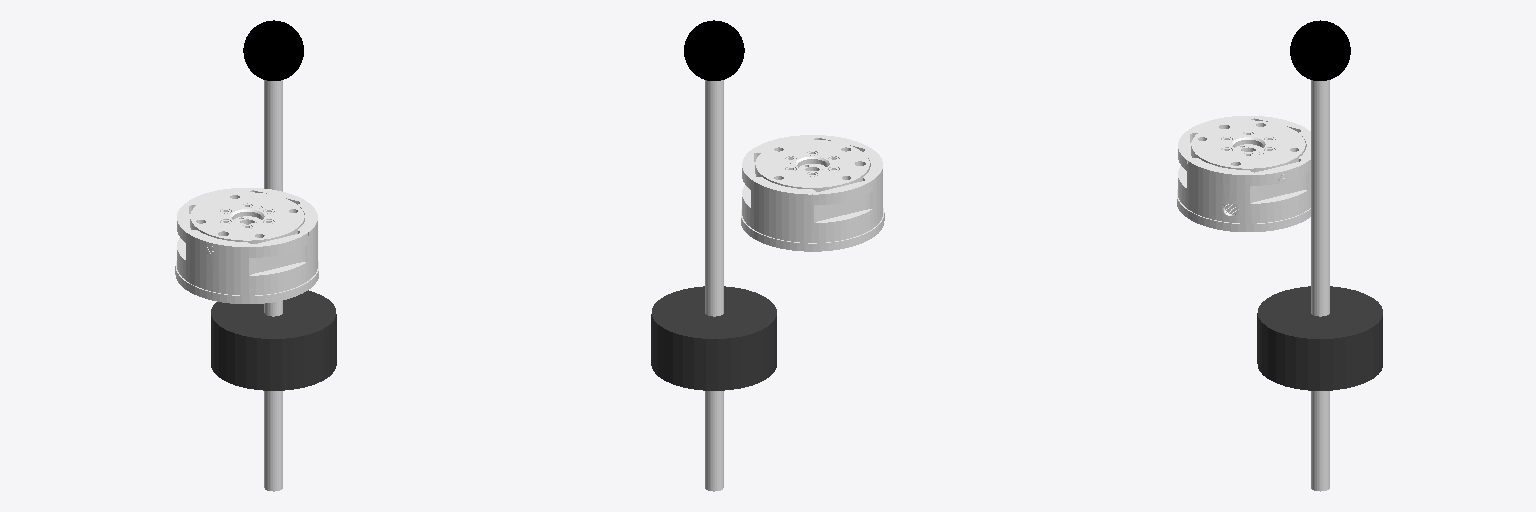
robot.urdf — kuka:
<?xml version="1.0" ?>
<robot name="kuka">
    <material name="DarkGrey">
        <color rgba="0.3 0.3 0.3 0.5"/>
    </material>
    <material name="Black">
        <color rgba="0 0 0 0.5"/>
    </material>
    <material name="Orange">
        <color rgba="1.0 0.487 0 0.5"/>
    </material>
    <material name="Silver">
        <color rgba="1.0 1.0 1.0 0.5"/>
    </material>
    <material name="Grey">
        <color rgba="0.7 0.7 0.7 0.5"/>
    </material>
    <material name="Blue">
        <color rgba="0.0 0.0 0.8 0.5"/>
    </material>
    <link name="lwr_world">
      <inertial>
        <mass value="0"/>
        <inertia ixx="0.0" ixy="0" ixz="0" iyy="0.0" iyz="0" izz="0.0"/>
      </inertial>
    </link>
    <!-- joint between {parent} and link_0 -->
    <joint name="lwr_world_joint" type="fixed">
      <origin rpy="0 0 0" xyz="0 0 0"/>
      <parent link="lwr_world"/>
      <child link="lwr_arm_0_link"/>
    </joint>
    <link name="lwr_arm_0_link">
        <inertial>
            <mass value="2.0"/>
            <origin xyz="0 0 0.055"/>
            <inertia ixx="0.00381666666667" ixy="0" ixz="0" iyy="0.0036" iyz="0" izz="0.00381666666667"/>
        </inertial>
        <visual>
            <origin rpy="0 0 3.14159265359" xyz="0 0 0"/>
            <geometry>
                <mesh filename="meshes/visual/base.STL"/>
            </geometry>
            <material name="Grey"/>
        </visual>

    </link>
    <joint name="lwr_arm_0_joint" type="revolute">
        <origin rpy="0 0 3.14159265359" xyz="0 0 0.11"/>
        <axis xyz="0 0 1"/>
        <limit effort="204" lower="-2.96705972839" upper="2.96705972839" velocity="1.91986217719"/>
        <safety_controller k_position="30" k_velocity="30" soft_lower_limit="-2.93215314335" soft_upper_limit="2.93215314335"/>
        <dynamics damping="1.0"/>
        <parent link="lwr_arm_0_link"/>
        <child link="lwr_arm_1_link"/>
    </joint>
    <link name="lwr_arm_1_link">
        <inertial>
            <mass value="2.0"/>
            <origin rpy="0 0 0" xyz="0 -0.06 0.130"/>
            <inertia ixx="0.0136666666667" ixy="0" ixz="0" iyy="0.003" iyz="0" izz="0.0118666666667"/>
        </inertial>
        <visual>
            <origin rpy="0 0 0" xyz="0 0 -0.008"/>
            <geometry>
                <mesh filename="meshes/visual/link_1.STL"/>
            </geometry>
            <material name="Blue"/>
        </visual>

    </link>
    <transmission name="lwr_arm_0_trans" type="SimpleTransmission">
        <actuator name="lwr_arm_0_motor"/>
        <joint name="lwr_arm_0_joint"/>
        <mechanicalReduction>1.0</mechanicalReduction>
    </transmission>
    <joint name="lwr_arm_1_joint" type="revolute">
        <origin rpy="0 0 0" xyz="0 0 0.2"/>
        <axis xyz="0 1 0"/>
        <limit effort="306" lower="-2.09439510239" upper="2.09439510239" velocity="1.91986217719"/>
        <safety_controller k_position="30" k_velocity="30" soft_lower_limit="-2.05948851735" soft_upper_limit="2.05948851735"/>
        <dynamics damping="1.0" friction="10"/>
        <parent link="lwr_arm_1_link"/>
        <child link="lwr_arm_2_link"/>
    </joint>
    <link name="lwr_arm_2_link">
        <inertial>
            <mass value="2.0"/>
            <origin rpy="0 0 0" xyz="0 0.06 0.07"/>
            <inertia ixx="0.0136666666667" ixy="0" ixz="0" iyy="0.003" iyz="0" izz="0.0118666666667"/>
        </inertial>
        <visual>
            <origin rpy="0 0 0" xyz="0 0 0.0"/>
            <geometry>
                <mesh filename="meshes/visual/link_2.STL"/>
            </geometry>
            <material name="Blue"/>
        </visual>

    </link>
    <transmission name="lwr_arm_1_trans" type="SimpleTransmission">
        <actuator name="lwr_arm_1_motor"/>
        <joint name="lwr_arm_1_joint"/>
        <mechanicalReduction>1.0</mechanicalReduction>
    </transmission>
    <joint name="lwr_arm_2_joint" type="revolute">
        <origin rpy="0 0 0" xyz="0 0 0.20"/>
        <axis xyz="0 0 1"/>
        <limit effort="204" lower="-2.96705972839" upper="2.96705972839" velocity="2.26892802759"/>
        <safety_controller k_position="30" k_velocity="30" soft_lower_limit="-2.93215314335" soft_upper_limit="2.93215314335"/>
        <dynamics damping="1.0"/>
        <parent link="lwr_arm_2_link"/>
        <child link="lwr_arm_3_link"/>
    </joint>
    <link name="lwr_arm_3_link">
        <inertial>
            <mass value="2.0"/>
            <origin rpy="0 0 0" xyz="0 0.06 0.130"/>
            <inertia ixx="0.0136666666667" ixy="0" ixz="0" iyy="0.003" iyz="0" izz="0.0118666666667"/>
        </inertial>
        <visual>
            <origin rpy="0 0 0" xyz="0 0 -0.008"/>
            <geometry>
                <mesh filename="meshes/visual/link_3.STL"/>
            </geometry>
            <material name="Blue"/>
        </visual>

    </link>
    <transmission name="lwr_arm_2_trans" type="SimpleTransmission">
        <actuator name="lwr_arm_2_motor"/>
        <joint name="lwr_arm_2_joint"/>
        <mechanicalReduction>1.0</mechanicalReduction>
    </transmission>
    <joint name="lwr_arm_3_joint" type="revolute">
        <origin rpy="0 0 0" xyz="0 0 0.20"/>
        <axis xyz="0 -1 0"/>
        <limit effort="306" lower="-2.09439510239" upper="2.09439510239" velocity="2.26892802759"/>
        <safety_controller k_position="30" k_velocity="30" soft_lower_limit="-2.05948851735" soft_upper_limit="2.05948851735"/>
        <dynamics damping="1.0"/>
        <parent link="lwr_arm_3_link"/>
        <child link="lwr_arm_4_link"/>
    </joint>
    <link name="lwr_arm_4_link">
        <inertial>
            <mass value="2.0"/>
            <origin rpy="0 0 0" xyz="0 -0.06 0.07"/>
            <inertia ixx="0.0136666666667" ixy="0" ixz="0" iyy="0.003" iyz="0" izz="0.0118666666667"/>
        </inertial>
        <visual>
            <origin rpy="0 0 0" xyz="0 0 0.0"/>
            <geometry>
            <mesh filename="meshes/visual/link_4.STL"/>
                </geometry>
            <material name="Blue"/>
        </visual>

    </link>
    <transmission name="lwr_arm_3_trans" type="SimpleTransmission">
        <actuator name="lwr_arm_3_motor"/>
        <joint name="lwr_arm_3_joint"/>
        <mechanicalReduction>1.0</mechanicalReduction>
    </transmission>
    <joint name="lwr_arm_4_joint" type="revolute">
        <origin rpy="0 0 0" xyz="0 0 0.20"/>
        <axis xyz="0 0 1"/>
        <limit effort="204" lower="-2.96705972839" upper="2.96705972839" velocity="2.26892802759"/>
        <safety_controller k_position="30" k_velocity="30" soft_lower_limit="-2.93215314335" soft_upper_limit="2.93215314335"/>
        <dynamics damping="1.0"/>
        <parent link="lwr_arm_4_link"/>
        <child link="lwr_arm_5_link"/>
    </joint>
    <link name="lwr_arm_5_link">
        <inertial>
            <mass value="2.0"/>
            <origin rpy="0 0 0" xyz="0 0 0.124"/>
            <inertia ixx="0.0126506666667" ixy="0" ixz="0" iyy="0.003" iyz="0" izz="0.0108506666667"/>
        </inertial>
        <visual>
            <origin rpy="0 0 0" xyz="0 0 -0.008"/>
            <geometry name="lwr_arm_5_geom">
                <mesh filename="meshes/visual/link_5.STL"/>
            </geometry>
            <material name="Blue"/>
        </visual>

    </link>
    <transmission name="lwr_arm_4_trans" type="SimpleTransmission">
        <actuator name="lwr_arm_4_motor"/>
        <joint name="lwr_arm_4_joint"/>
        <mechanicalReduction>1.0</mechanicalReduction>
    </transmission>
    <joint name="lwr_arm_5_joint" type="revolute">
        <origin rpy="0 0 0" xyz="0 0 0.19"/>
        <axis xyz="0 1 0"/>
        <limit effort="306" lower="-2.09439510239" upper="2.09439510239" velocity="3.14159265359"/>
        <safety_controller k_position="30" k_velocity="30" soft_lower_limit="-2.05948851735" soft_upper_limit="2.05948851735"/>
        <dynamics damping="1.0"/>
        <parent link="lwr_arm_5_link"/>
        <child link="lwr_arm_6_link"/>
    </joint>
    <link name="lwr_arm_6_link">
        <inertial>
            <mass value="0.2"/>
            <origin rpy="0 0 0" xyz="0 0 0.0625"/>
            <inertia ixx="0.000520833333333" ixy="0" ixz="0" iyy="0.000520833333333" iyz="0" izz="0.000520833333333"/>
        </inertial>
        <visual>
            <origin rpy="0 0 0" xyz="0 0 0"/>
            <geometry>
                <mesh filename="meshes/visual/link_6.STL"/>
            </geometry>
            <material name="Grey"/>
        </visual>
    </link>
    <transmission name="lwr_arm_5_trans" type="SimpleTransmission">
        <actuator name="lwr_arm_5_motor"/>
        <joint name="lwr_arm_5_joint"/>
        <mechanicalReduction>1.0</mechanicalReduction>
    </transmission>
    <joint name="lwr_arm_6_joint" type="revolute">
        <origin rpy="0 0 3.14159265359" xyz="0 0 0.078"/>
        <axis xyz="0 0 1"/>
        <limit effort="204" lower="-2.96705972839" upper="2.96705972839" velocity="3.14159265359"/>
        <safety_controller k_position="30" k_velocity="30" soft_lower_limit="-2.93215314335" soft_upper_limit="2.93215314335"/>
        <dynamics damping="1.0"/>
        <parent link="lwr_arm_6_link"/>
        <child link="lwr_arm_7_link"/>
    </joint>
    <link name="lwr_arm_7_link">
        <inertial>
            <mass value="0.2"/>
            <origin xyz="0 0 0"/>
            <inertia ixx="0.0333333333333" ixy="0" ixz="0" iyy="0.0333333333333" iyz="0" izz="0.0333333333333"/>
        </inertial>
        <visual>
            <origin rpy="0 0 0" xyz="0 0 0"/>
            <geometry>
                <mesh filename="meshes/visual/link_7.STL"/>
            </geometry>
            <material name="DarkGrey"/>
        </visual>
        <visual>
            <origin rpy="0 0 0" xyz="0 0 0.016"/>
            <geometry>
                <cylinder length="0.03" radius="0.033"/>
            </geometry>
            <material name="DarkGrey"/>
        </visual>

    </link>
    <joint name="lwr_arm_7_joint" type="fixed">
        <parent link="lwr_arm_7_link"/>
        <child link="adaptor_kuka"/>
        <origin rpy="0 0 3.14159265359" xyz="0 0 0.032"/>
    </joint>
    <link name="adaptor_kuka">
        <inertial>
            <mass value="0.1"/>
            <origin xyz="0 0 0"/>
            <inertia ixx="0.01" ixy="0" ixz="0" iyy="0.01" iyz="0" izz="0.01"/>
        </inertial>
        <visual>
            <origin rpy="0 0 0" xyz="0 0 0.0"/>
            <geometry>
                <mesh filename="meshes/visual/adaptor_kuka.stl" scale="0.001 0.001 0.001"/>
            </geometry>
            <material name="Black"/>
        </visual>

    </link>
    <joint name="force_torque_sensor_mount" type="fixed">
        <origin rpy="0 0 0" xyz="0 0 0.0453"/>
        <parent link="adaptor_kuka"/>
        <child link="force_torque_sensor"/>
    </joint>
    <link name="force_torque_sensor">
        <inertial>
            <mass value="0.5"/>
            <origin xyz="-0.000007 0.001524 0.027591"/>
            <inertia ixx="0.0333333333333" ixy="0" ixz="0" iyy="0.0333333333333" iyz="0" izz="0.0333333333333"/>
        </inertial>
        <visual>
            <origin rpy="0 0 0" xyz="0 0 0"/>
            <material name="Silver"/>
            <geometry>
                <mesh filename="meshes/visual/force_sensor.stl" scale="0.001 0.001 0.001"/>
            </geometry>
        </visual>

    </link>
    <joint name="end_effector_joint" type="fixed">
        <origin rpy="0 0 0.0" xyz="0 0 0.02"/>
        <parent link="force_torque_sensor"/>
        <child link="end_effector"/>
    </joint>
    <link name="end_effector">
        <inertial>
            <mass value="1"/>
            <origin xyz="-0.000007 0.001524 0.027591"/>
            <inertia ixx="0.00409836" ixy="0.000000" ixz="0.000000" iyy="0.00061475" iyz="0.000000" izz="0.00409836"/>
        </inertial>
        <visual>
            <origin rpy="0 0 0" xyz="0 0 -0.0425"/>
            <geometry>
                <!-- <cylinder length="0.015" radius="0.04"/> -->
                <cylinder length="0.25" radius="0.005"/>
            </geometry>
            <material name="Silver"/>
        </visual>
    </link>
    <joint name="end_effector_ball" type="fixed">
        <origin rpy="0 0 0.0" xyz="0 0 0.085"/>
        <parent link="end_effector"/>
        <child link="end_effector_ball"/>
    </joint>
    <link name="end_effector_ball">
    <contact>
      <lateral_friction value="0.1"/>
      <rolling_friction value="0.0"/>
      <spinning_friction value="0.0"/>
      <contact_stiffness value="10000.0"/>
      <contact_damping value="0.7"/>
      <!-- <contact_cfm value="0.0"/> -->
      <!-- <contact_erp value="1.0"/> -->
    </contact>
    <inertial>
        <mass value="0.05"/>
        <origin xyz="-0.0 0.0 0.0"/>
        <inertia ixx="0.015" ixy="0.000000" ixz="0.000000" iyy="0.015" iyz="0.000000" izz="0.015"/>
    </inertial>
    <visual>
        <origin rpy="0 0 0" xyz="0 0 0.0"/>
        <geometry>
            <sphere radius="0.016"/>
        </geometry>
        <material name="Black"/>
    </visual>
    </link>
</robot>

--- Facts derived from the render (not from the file) ---
Views: 3 orthographic renders of the robot side by side, from view 1: azimuth 30°, elevation 25°; view 2: azimuth 150°, elevation 25°; view 3: azimuth 270°, elevation 25°.
Model kuka with 13 links and 12 joints (7 revolute, 5 fixed), rooted at lwr_world, posed all joints at 0.
Visible links, largest first — view 1: force_torque_sensor, lwr_arm_7_link, end_effector, end_effector_ball; view 2: force_torque_sensor, lwr_arm_7_link, end_effector, end_effector_ball; view 3: force_torque_sensor, lwr_arm_7_link, end_effector, end_effector_ball.
Link boxes in pixels (x1=…): force_torque_sensor: x1=175, y1=188, x2=318, y2=303; lwr_arm_7_link: x1=211, y1=290, x2=336, y2=390; end_effector: x1=264, y1=80, x2=282, y2=491; end_effector_ball: x1=243, y1=20, x2=303, y2=80; force_torque_sensor: x1=741, y1=135, x2=884, y2=251; lwr_arm_7_link: x1=651, y1=286, x2=776, y2=390; end_effector: x1=705, y1=80, x2=723, y2=491; end_effector_ball: x1=684, y1=20, x2=744, y2=80; force_torque_sensor: x1=1177, y1=116, x2=1310, y2=231; lwr_arm_7_link: x1=1257, y1=286, x2=1382, y2=390; end_effector: x1=1311, y1=80, x2=1329, y2=491; end_effector_ball: x1=1290, y1=20, x2=1350, y2=80.
Size in the robot's own frame: 0.1084 by 0.1084 by 0.2685 metres.
1 mesh visuals loaded from 10 distinct referenced files (1 binary STL); not drawn: 9 (reference not matched to a file when rendering).